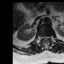CCS_normal: (44, 33, 46, 42)
LFS_stenosis: (49, 33, 50, 40)
LLS_normal: (46, 33, 49, 41)
RFS_normal: (40, 33, 42, 40)
RLS_normal: (42, 34, 44, 41)
